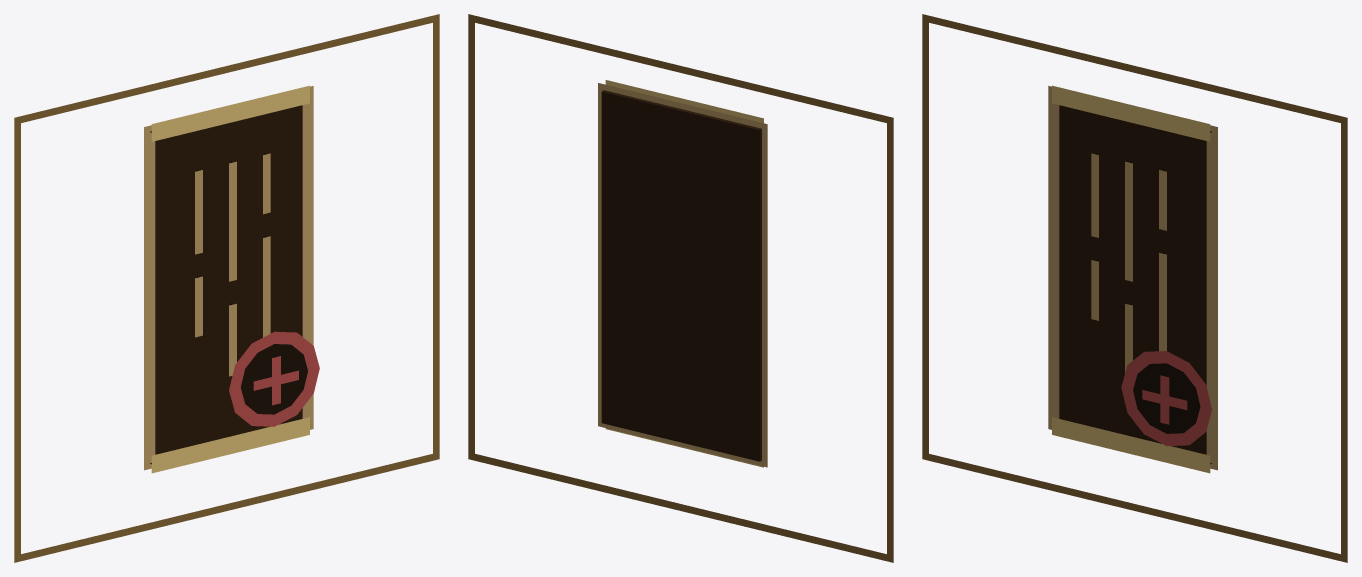
The model's file is obj-yarlyk.glb.
3 renders of one model, left to right at view 1: azimuth 30°, elevation 25°; view 2: azimuth 150°, elevation 25°; view 3: azimuth 330°, elevation 25°, orthographic.
Visible parts, largest first — view 1: obj-yarlyk; view 2: obj-yarlyk; view 3: obj-yarlyk.
Boxes of the visible parts, box(x1,y1,x2,y2) form: obj-yarlyk: box(14, 14, 439, 562); obj-yarlyk: box(468, 14, 893, 562); obj-yarlyk: box(922, 14, 1347, 562).
Size of the model in its own units: 0.376 by 0.376 by 0.0152.
